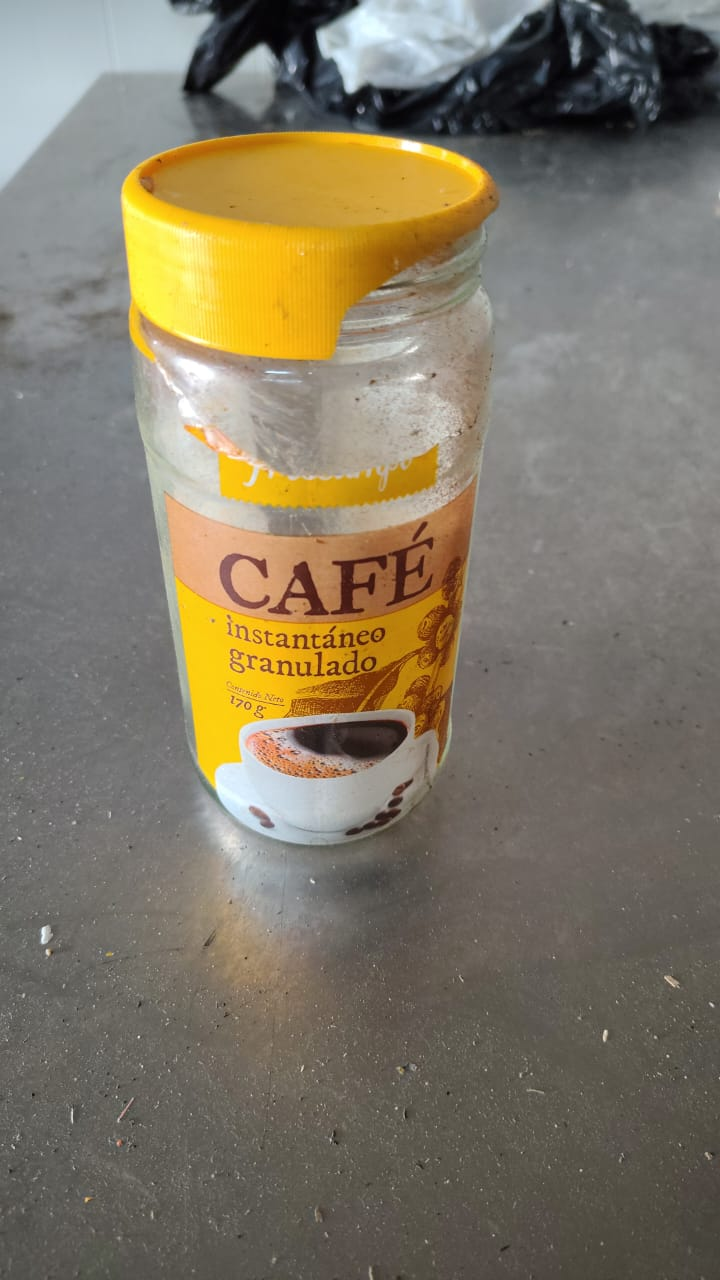Vidrio: (120, 234, 503, 848)
